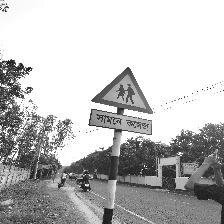College-in-front: (83, 54, 172, 149)
